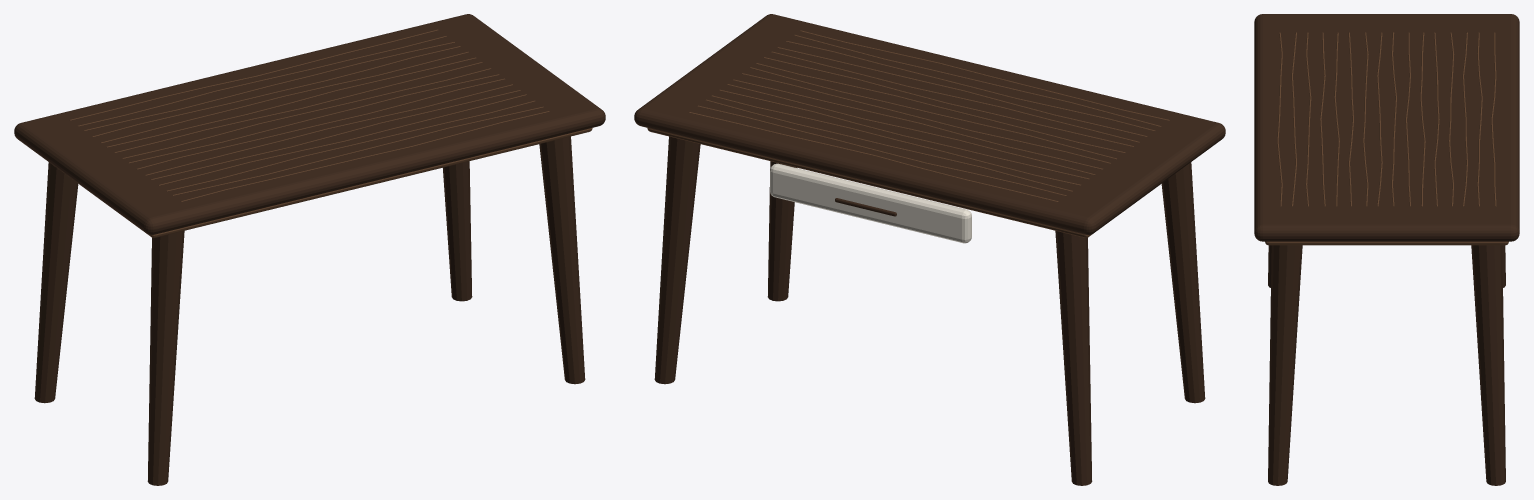
The model's file is desk_reading.fbx.
3 renders of one model, left to right at view 1: azimuth 30°, elevation 25°; view 2: azimuth 150°, elevation 25°; view 3: azimuth 270°, elevation 25°, orthographic. The views are drawn at different scales.
Visible parts, largest first — view 1: desk_reading; view 2: desk_reading; view 3: desk_reading.
Boxes of the visible parts, left/top/right/bottom form: desk_reading: left=14, top=14, right=605, bottom=485; desk_reading: left=634, top=14, right=1225, bottom=485; desk_reading: left=1254, top=14, right=1519, bottom=485.
Bounding box in the file's own units: 1.2 × 0.6811 × 0.62.
